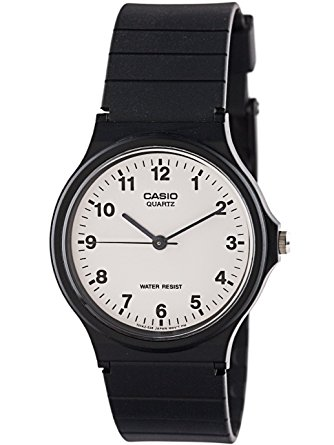clock: (49, 135, 272, 354)
